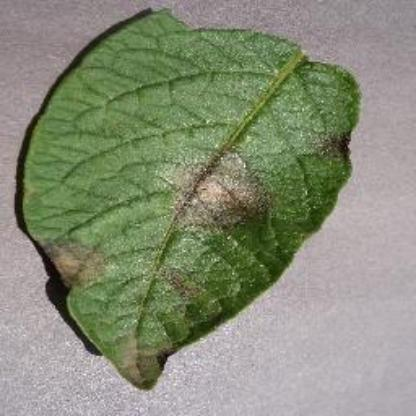Late-Blight: (13, 7, 388, 395)
